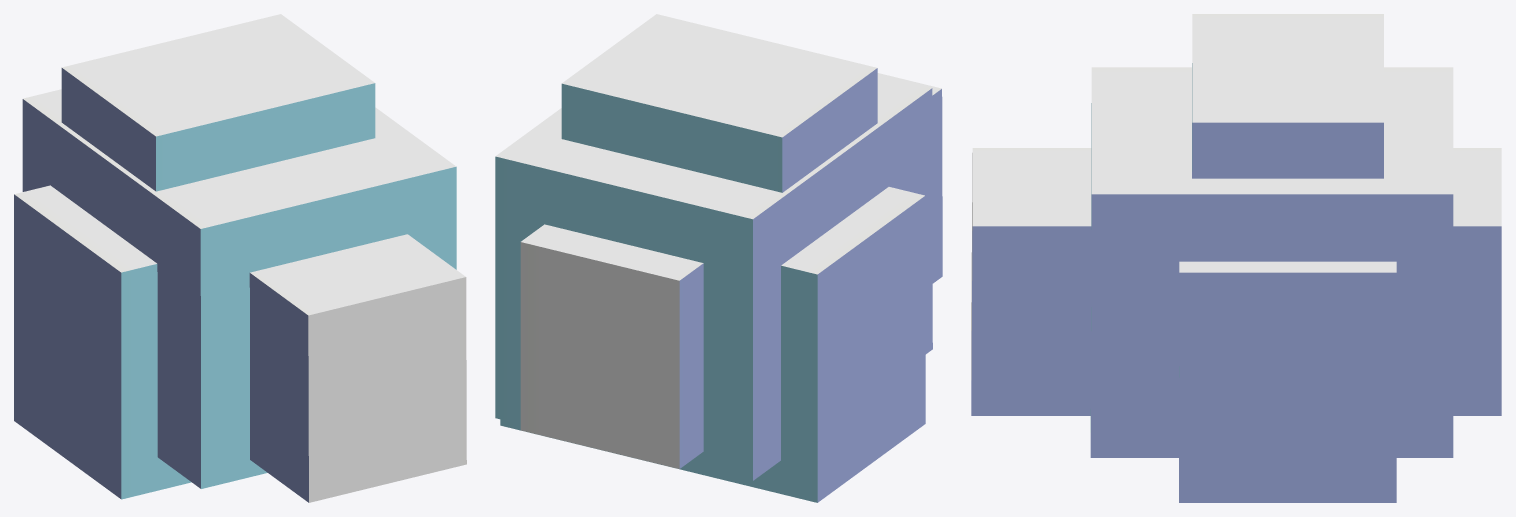
Rendered from cloud3.FBX.
3 views of the same model, side by side, from view 1: azimuth 30°, elevation 25°; view 2: azimuth 150°, elevation 25°; view 3: azimuth 270°, elevation 25° (orthographic).
Parts seen in each view (by area): view 1: cloud3; view 2: cloud3; view 3: cloud3.
Part boxes in pixels (x1,y1,x2,y2): cloud3: (14, 14, 466, 502); cloud3: (495, 14, 942, 502); cloud3: (971, 14, 1501, 502).
Bounding box in the file's own units: 149 × 214 × 158.
